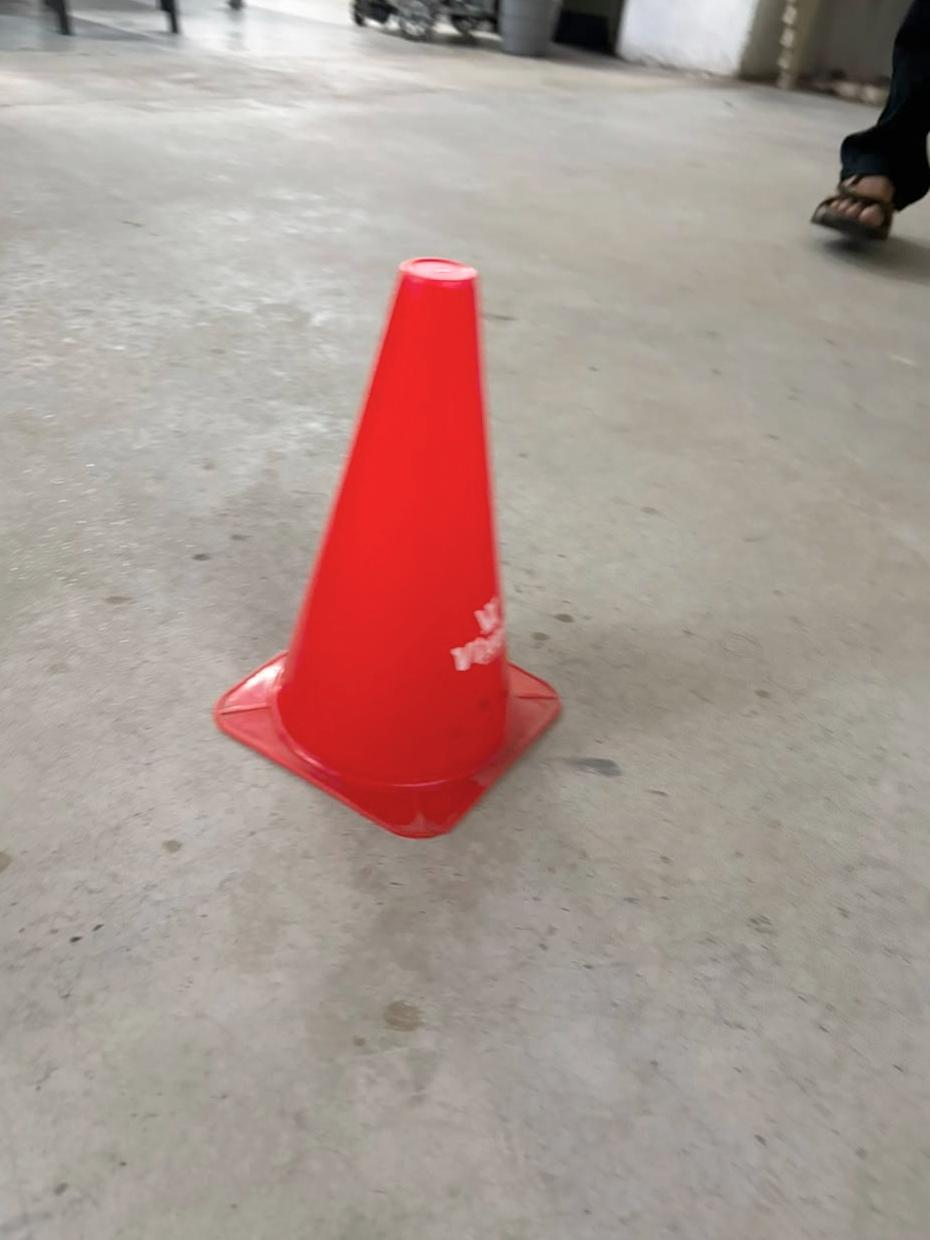0 cone: (214, 258, 560, 838)
